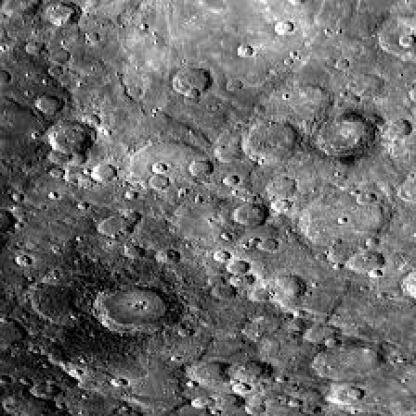craters: (296, 187, 400, 268), (91, 272, 178, 348), (24, 272, 102, 353), (297, 107, 394, 163), (297, 338, 394, 383), (230, 122, 299, 170), (28, 0, 98, 43), (228, 357, 288, 397), (171, 64, 223, 104), (201, 272, 247, 314), (224, 200, 276, 235), (269, 268, 312, 309), (52, 113, 97, 150), (332, 376, 374, 410), (28, 83, 65, 120), (87, 159, 132, 189), (28, 377, 65, 411), (143, 240, 184, 270), (24, 58, 74, 80), (35, 41, 84, 63), (284, 312, 314, 346), (184, 148, 217, 177), (141, 172, 180, 196), (385, 33, 414, 65), (314, 18, 356, 40), (9, 30, 43, 57), (7, 248, 39, 274), (102, 370, 132, 397), (145, 154, 176, 178), (58, 357, 84, 384), (325, 54, 355, 76), (268, 18, 294, 42), (224, 74, 252, 96), (174, 323, 200, 344), (234, 39, 256, 63), (69, 192, 89, 218), (232, 257, 258, 277), (219, 172, 245, 190), (210, 250, 243, 264), (191, 189, 212, 209), (286, 48, 301, 74), (11, 216, 30, 235), (46, 190, 67, 206), (271, 92, 295, 104), (178, 185, 197, 200), (123, 194, 141, 204), (15, 194, 24, 205)
